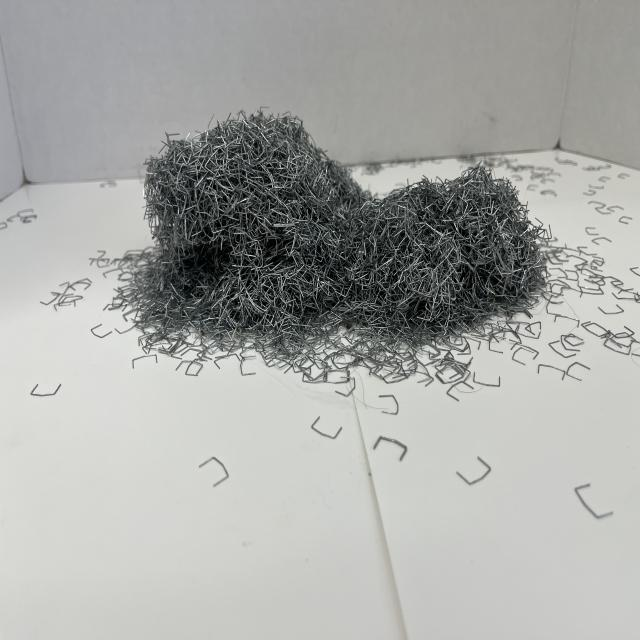staples: (129, 106, 552, 347)
